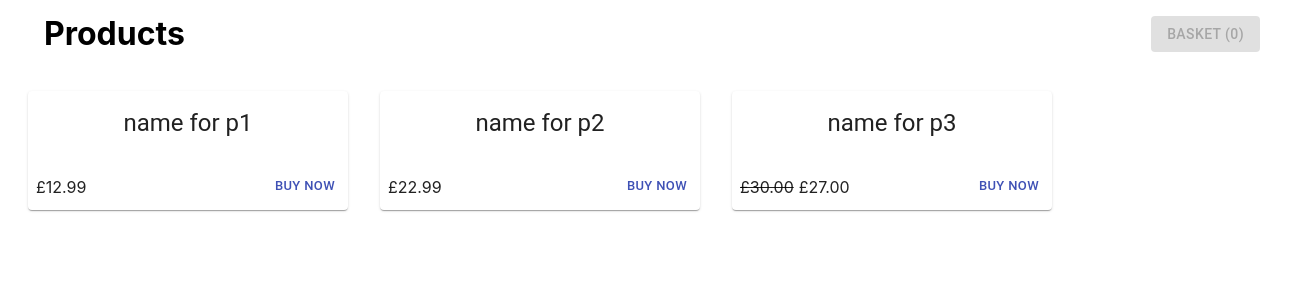
Test: single product › should show the whole product when the name is clicked
Click the button "name for p1".
click(188, 127)  # box [28,91,348,163]
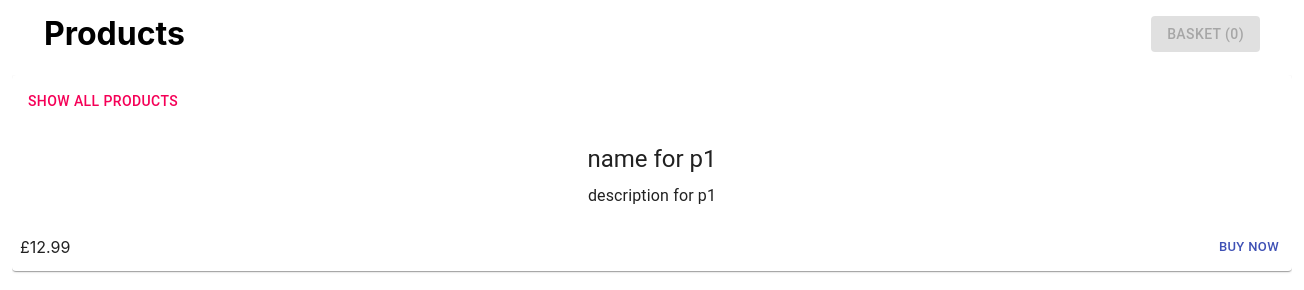
Check: the button "Show all products" is shown, box [20,83,186,119]
Check: the text "description for p1" is shown, box [588,186,716,205]
